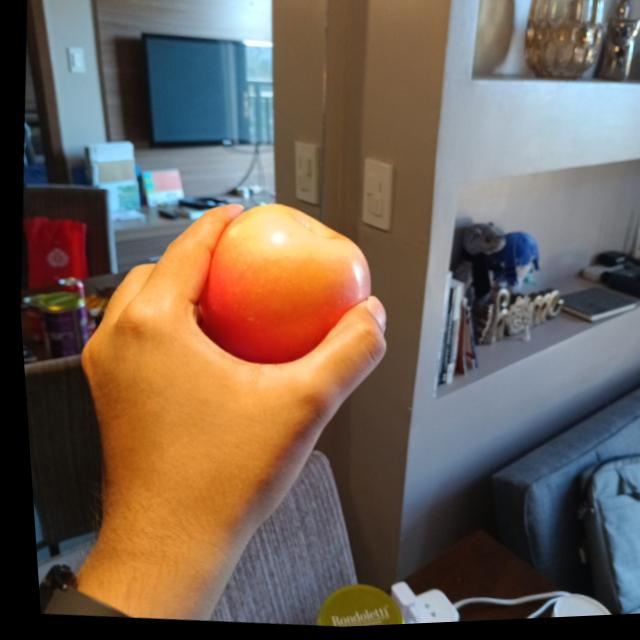apple: (185, 197, 376, 372)
